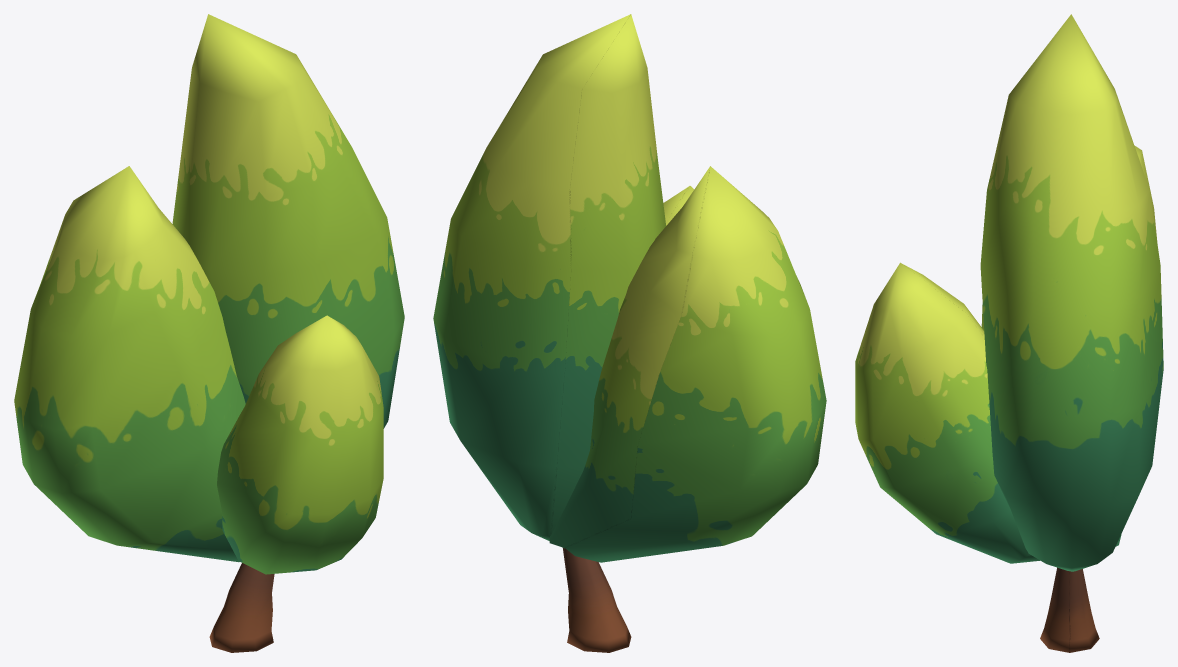
Rendered from Tree_Green3.fbx.
3 renders of one model, left to right at view 1: azimuth 30°, elevation 25°; view 2: azimuth 150°, elevation 25°; view 3: azimuth 270°, elevation 25°, orthographic. The views are drawn at different scales.
Parts seen in each view (by area): view 1: polySurface31; view 2: polySurface31; view 3: polySurface31.
Part boxes in pixels (x1,y1,x2,y2): polySurface31: (14,14,404,652); polySurface31: (433,14,826,652); polySurface31: (855,14,1163,652).
Size of the model in its own units: 5.02 by 8.21 by 3.77.
